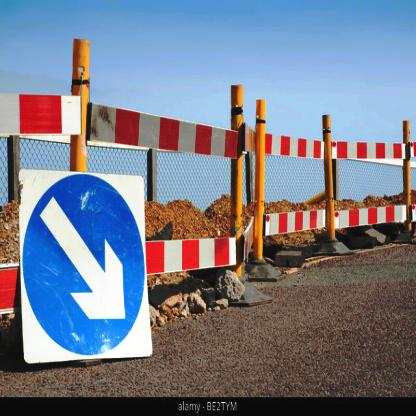Keep right: (20, 170, 152, 359)
